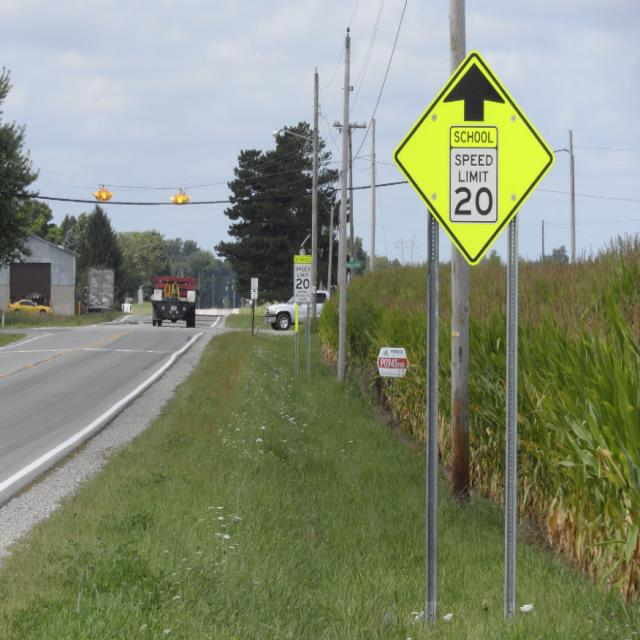speedLimit20: (450, 149, 496, 220)
